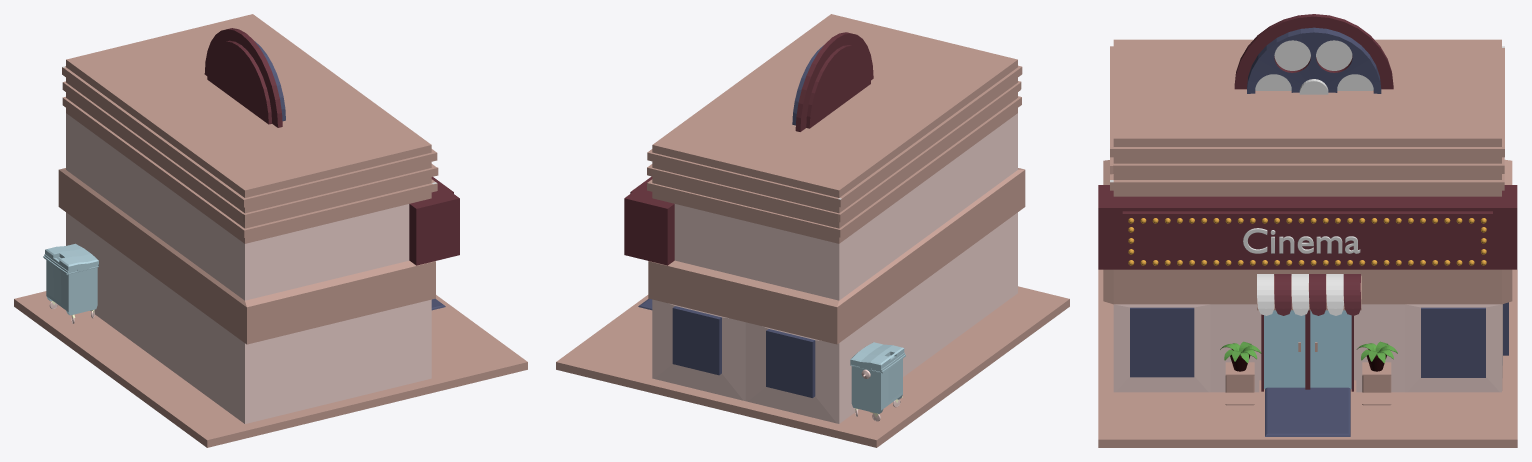
The model's file is Gebouw2_Tinka(Bioscoop).fbx.
The picture shows the model from 3 angles, left to right: view 1: azimuth 30°, elevation 25°; view 2: azimuth 150°, elevation 25°; view 3: azimuth 270°, elevation 25°; orthographic projection. The views are drawn at different scales.
Parts seen in each view (by area): view 1: Cube.006, Plane.004, Circle.080, Vuilcontainer; view 2: Cube.006, Plane.004, Circle.080, Vuilcontainer; view 3: Cube.006, Plane.004, Circle.080, Plane.009, Cube.008, Plane.007, Text, Icosphere, Icosphere.001, Plane.006, Plane.005.
Boxes of the visible parts, left/top/right/bottom form: Cube.006: left=58, top=14, right=459, bottom=423; Plane.004: left=14, top=291, right=527, bottom=447; Circle.080: left=204, top=28, right=285, bottom=127; Vuilcontainer: left=43, top=243, right=98, bottom=323; Cube.006: left=624, top=14, right=1025, bottom=423; Plane.004: left=556, top=286, right=1069, bottom=447; Circle.080: left=792, top=32, right=873, bottom=131; Vuilcontainer: left=850, top=342, right=905, bottom=421; Cube.006: left=1098, top=39, right=1517, bottom=392; Plane.004: left=1098, top=269, right=1517, bottom=447; Circle.080: left=1234, top=14, right=1393, bottom=94; Plane.009: left=1265, top=387, right=1350, bottom=436; Cube.008: left=1257, top=274, right=1360, bottom=315; Plane.007: left=1225, top=362, right=1391, bottom=405; Text: left=1243, top=228, right=1360, bottom=253; Icosphere: left=1128, top=218, right=1486, bottom=223; Icosphere.001: left=1128, top=260, right=1486, bottom=265; Plane.006: left=1220, top=341, right=1261, bottom=363; Plane.005: left=1356, top=341, right=1397, bottom=363.
Size of the model in its own units: 7567 by 6949 by 7892.
